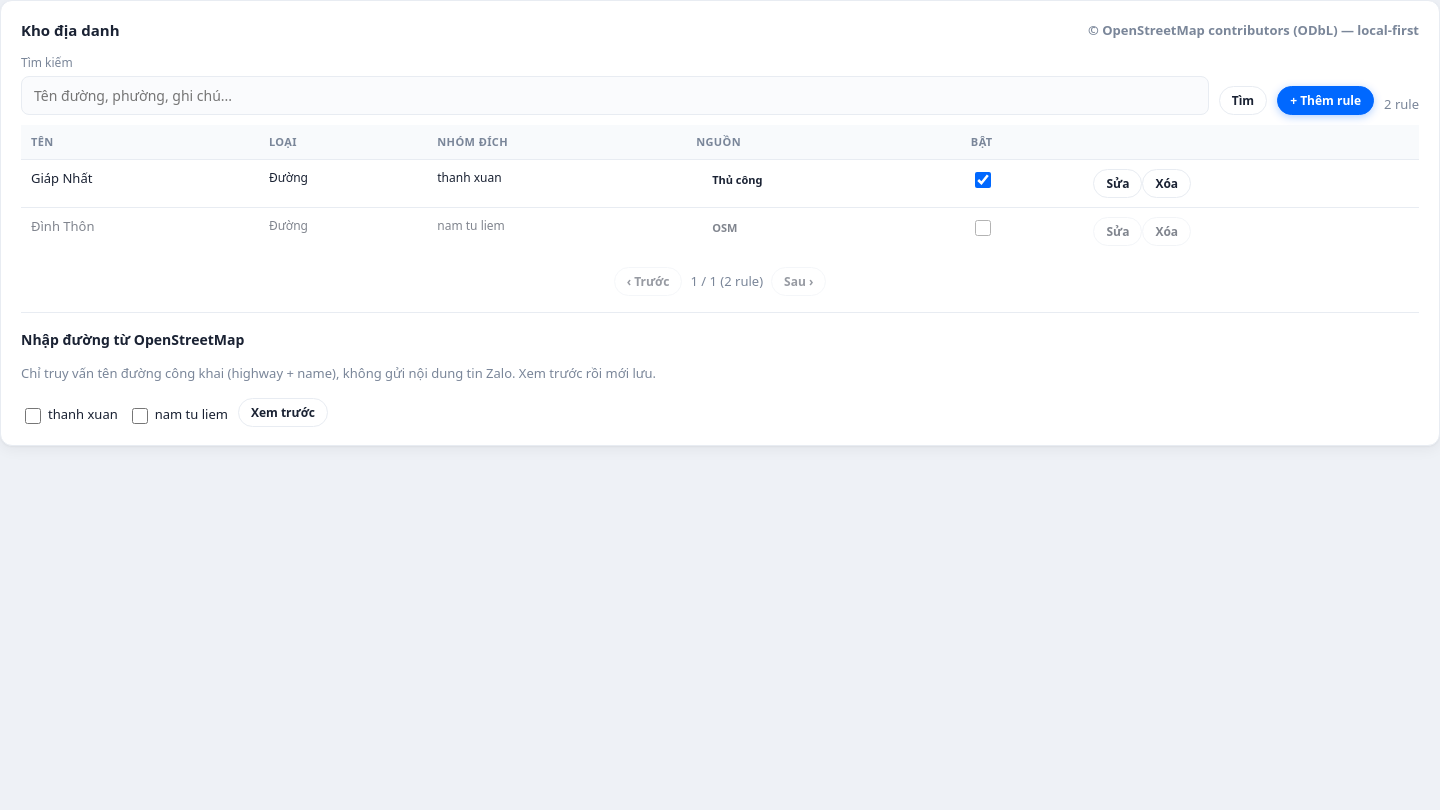
Test case: LocationRulesPanel › hiện rule kèm nguồn và phân trang, sửa được nhiều nhóm đích
Expected: the text "Giáp Nhất" is shown, left=21, top=160, right=259, bottom=208
Expected: the text "Thủ công" is shown, left=712, top=172, right=762, bottom=187
Click the button "Sửa" in the row of "Giáp Nhất" at (1118, 184), box left=1093, top=169, right=1142, bottom=198
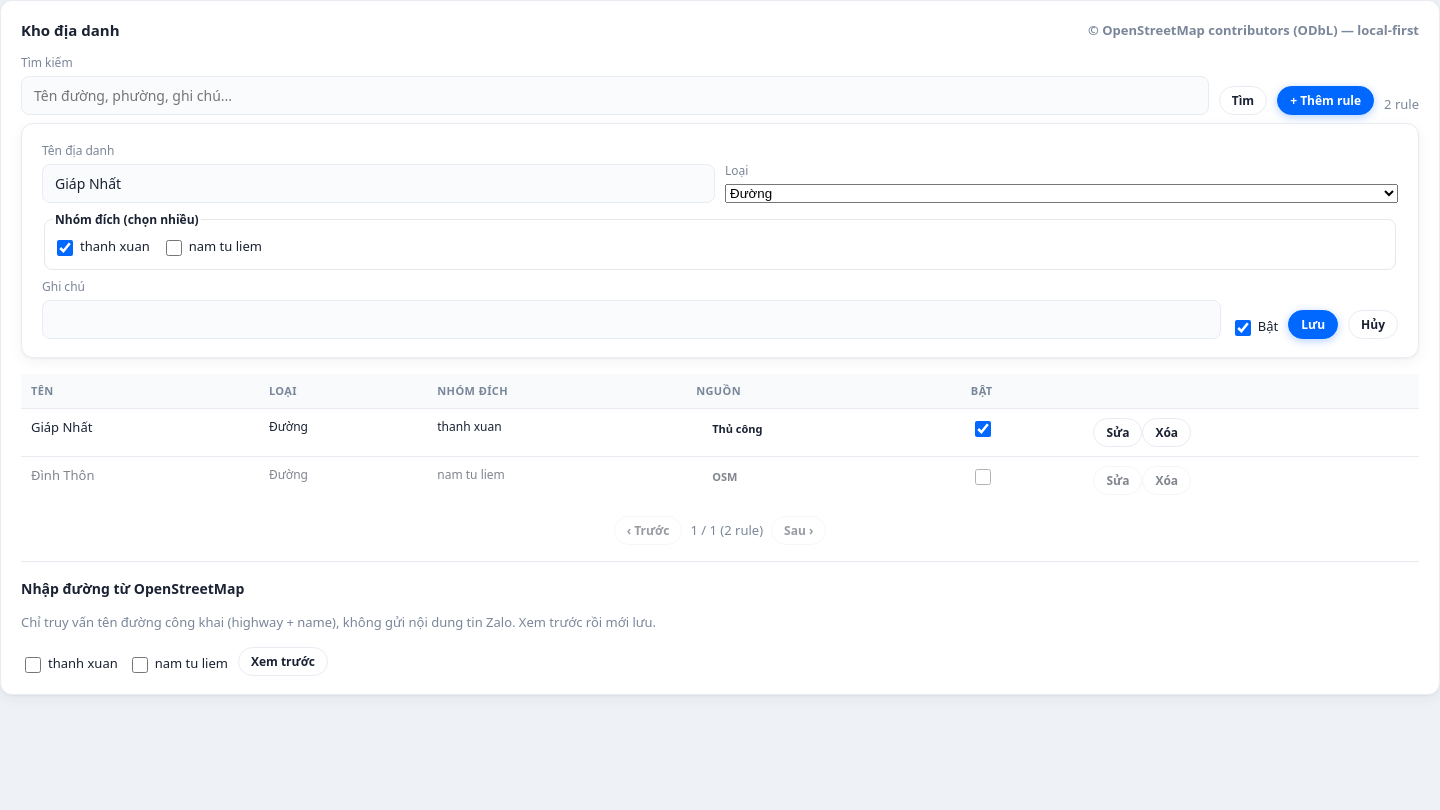
Result: the checkbox labelled "thanh xuan" below "Nhóm đích (chọn nhiều)" is checked at left=57, top=240, right=73, bottom=256
